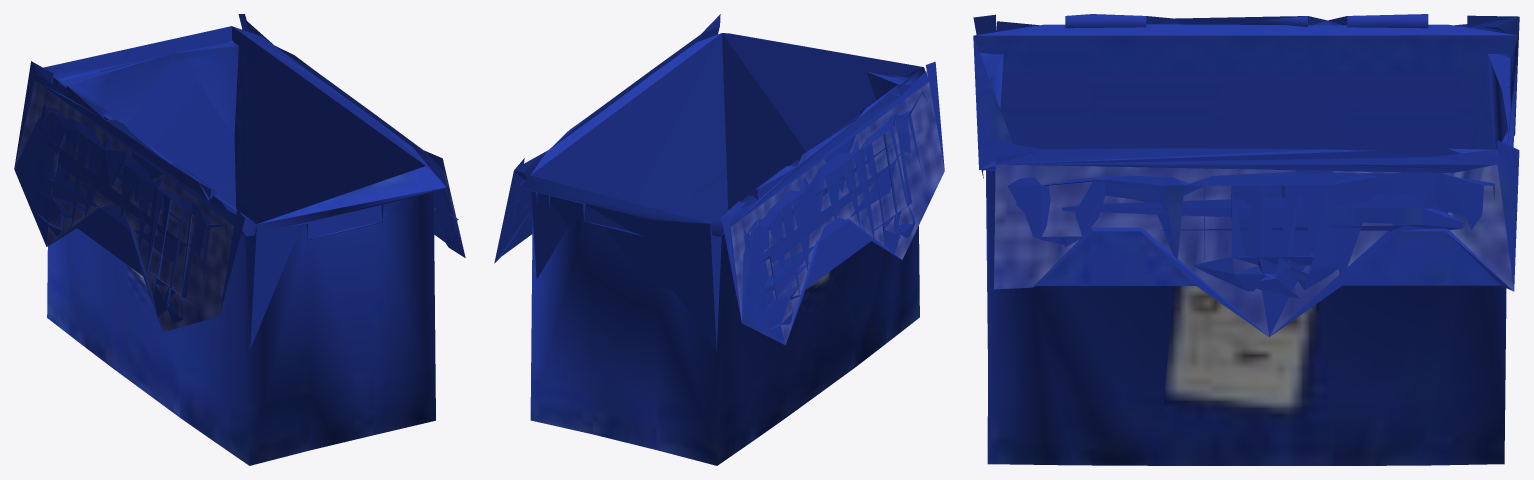
Rendered from industrial_pastic_container.glb.
The picture shows the model from 3 angles, left to right: view 1: azimuth 30°, elevation 25°; view 2: azimuth 150°, elevation 25°; view 3: azimuth 270°, elevation 25°; orthographic projection. The views are drawn at different scales.
Visible parts, largest first — view 1: industrial_pastic_container; view 2: industrial_pastic_container; view 3: industrial_pastic_container.
Part boxes in pixels (<box>): industrial_pastic_container: <box>14,14,465,465</box>; industrial_pastic_container: <box>494,14,944,465</box>; industrial_pastic_container: <box>973,14,1519,465</box>.
Bounding box in the file's own units: 0.4377 × 0.4203 × 0.6293.
Materials: 1 (1 with a texture image).
